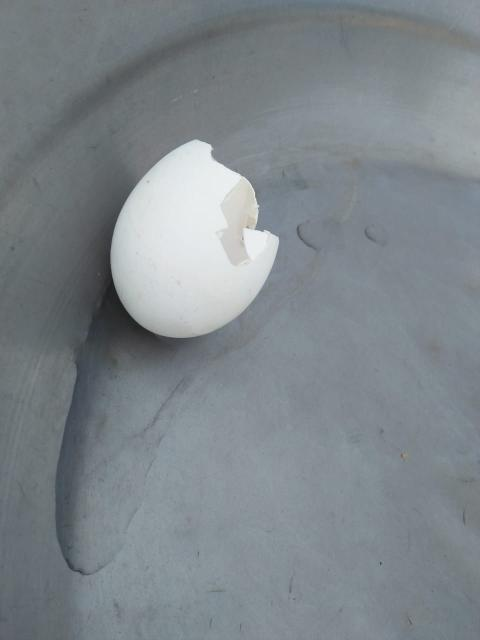Roto: (108, 138, 280, 339)
